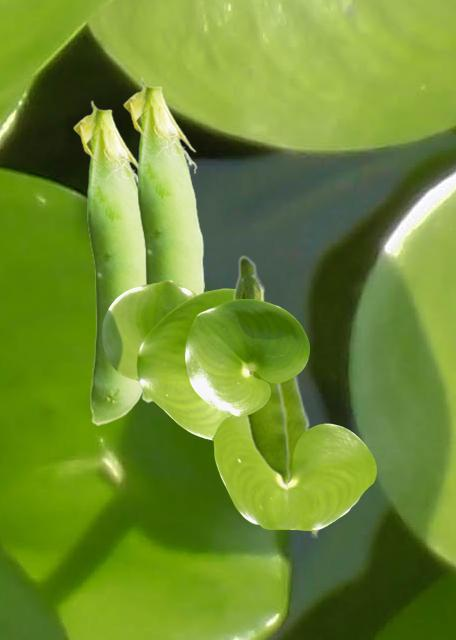pea: (123, 77, 203, 401), (73, 100, 144, 424), (232, 254, 291, 488), (275, 303, 320, 537)
